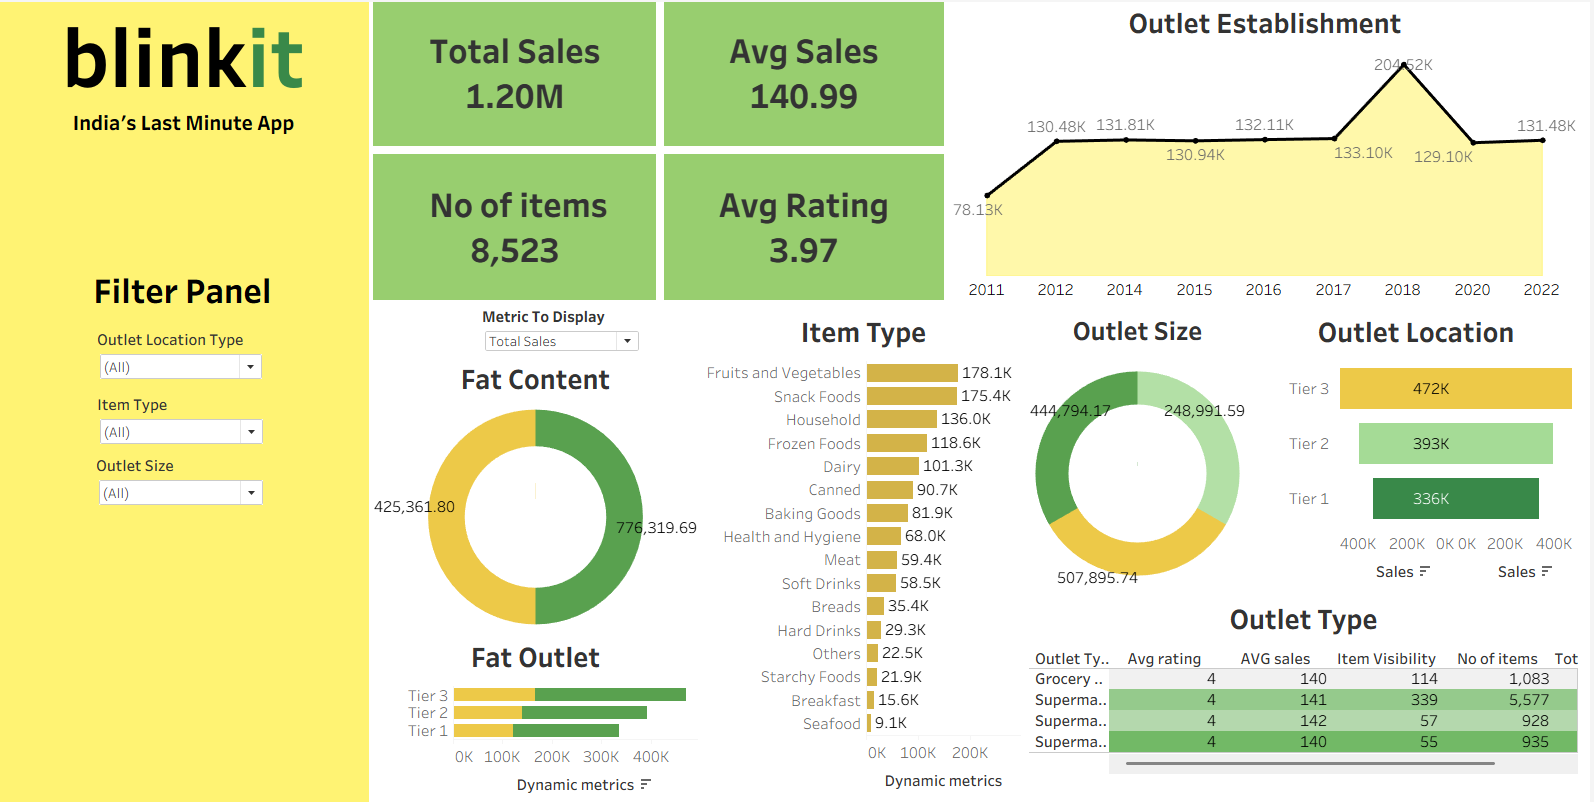

What the dashboard file says about the page in this screenshot:
{"tool":"tableau","page":{"name":"Dashboard 1","canvas":[1600,900],"ordinal":0},"visuals":[{"type":"text","box":[8,8,371,143]},{"type":"worksheet","title":"Total Sales","mark":"Automatic","box":[379,8,291,154.5]},{"type":"worksheet","title":"AVG sales","mark":"Automatic","box":[670,8,288,154.5]},{"type":"worksheet","title":"Outlet Establishment","mark":"Area","rows":["Calculation_0990683913986048","Calculation_0990683913986048"],"cols":["Outlet Establishment Year"],"box":[958,8,634,309]},{"type":"worksheet","title":"No.of items","mark":"Automatic","box":[379,162.5,291,154.5]},{"type":"worksheet","title":"Avg Rating","mark":"Automatic","box":[670,162.5,288,154.5]},{"type":"text","box":[77,273,231,57]},{"type":"blank","box":[379,317,333,47]},{"type":"worksheet","title":"Item Type","mark":"Automatic","rows":["Item Type"],"cols":["Calculation_0990683919507460"],"box":[712,317,323,528]},{"type":"worksheet","title":"Outlet Size","mark":"Pie","rows":["Calculation_0990683921276934","Calculation_0990683921866760"],"box":[1035,317,225,287.5]},{"type":"worksheet","title":"Outlet Location","mark":"Automatic","rows":["Outlet Location Type"],"cols":["Sales","Sales"],"box":[1260,317,332,287.5]},{"type":"parameter","param":"[Parameters].[Parameter 1]","box":[492,318,160,48]},{"type":"filter","title":"Outlet Location","param":"[federated.10x7o5m176l1q6151ywc70p3x4w3].[none:Outlet Location Type:nk]","box":[107,341,168,53]},{"type":"worksheet","title":"Fat Content","mark":"Pie","rows":["Calculation_0990683921276934","Calculation_0990683921866760"],"box":[379,364,333,278]},{"type":"filter","title":"Outlet Location","param":"[federated.10x7o5m176l1q6151ywc70p3x4w3].[none:Item Type:nk]","box":[107,406,169,64]},{"type":"filter","title":"Outlet Location","param":"[federated.10x7o5m176l1q6151ywc70p3x4w3].[none:Outlet Size:nk]","box":[106,467,170,64]},{"type":"worksheet","title":"Outlet Type","mark":"Square","rows":["Outlet Type"],"box":[1035,604.5,557,287.5]},{"type":"worksheet","title":"Fat Outlet","mark":"Automatic","rows":["Outlet Location Type"],"cols":["Calculation_0990683919507460"],"box":[379,642,333,192]}]}

Visuals, with their boxes on the page's 1600x900 design canvas (x1, y1, x2, y2). These are canvas units, not pixel positions in the 1594x802 screenshot, which may show the page scaled, cropped or inside an application window:
text: box=[8, 8, 379, 151]
"Total Sales" worksheet: box=[379, 8, 670, 162]
"AVG sales" worksheet: box=[670, 8, 958, 162]
"Outlet Establishment" worksheet (Area marks): box=[958, 8, 1592, 317]
"No.of items" worksheet: box=[379, 162, 670, 317]
"Avg Rating" worksheet: box=[670, 162, 958, 317]
text: box=[77, 273, 308, 330]
blank: box=[379, 317, 712, 364]
"Item Type" worksheet: box=[712, 317, 1035, 845]
"Outlet Size" worksheet (Pie marks): box=[1035, 317, 1260, 604]
"Outlet Location" worksheet: box=[1260, 317, 1592, 604]
parameter: box=[492, 318, 652, 366]
"Outlet Location" filter: box=[107, 341, 275, 394]
"Fat Content" worksheet (Pie marks): box=[379, 364, 712, 642]
"Outlet Location" filter: box=[107, 406, 276, 470]
"Outlet Location" filter: box=[106, 467, 276, 531]
"Outlet Type" worksheet (Square marks): box=[1035, 604, 1592, 892]
"Fat Outlet" worksheet: box=[379, 642, 712, 834]
